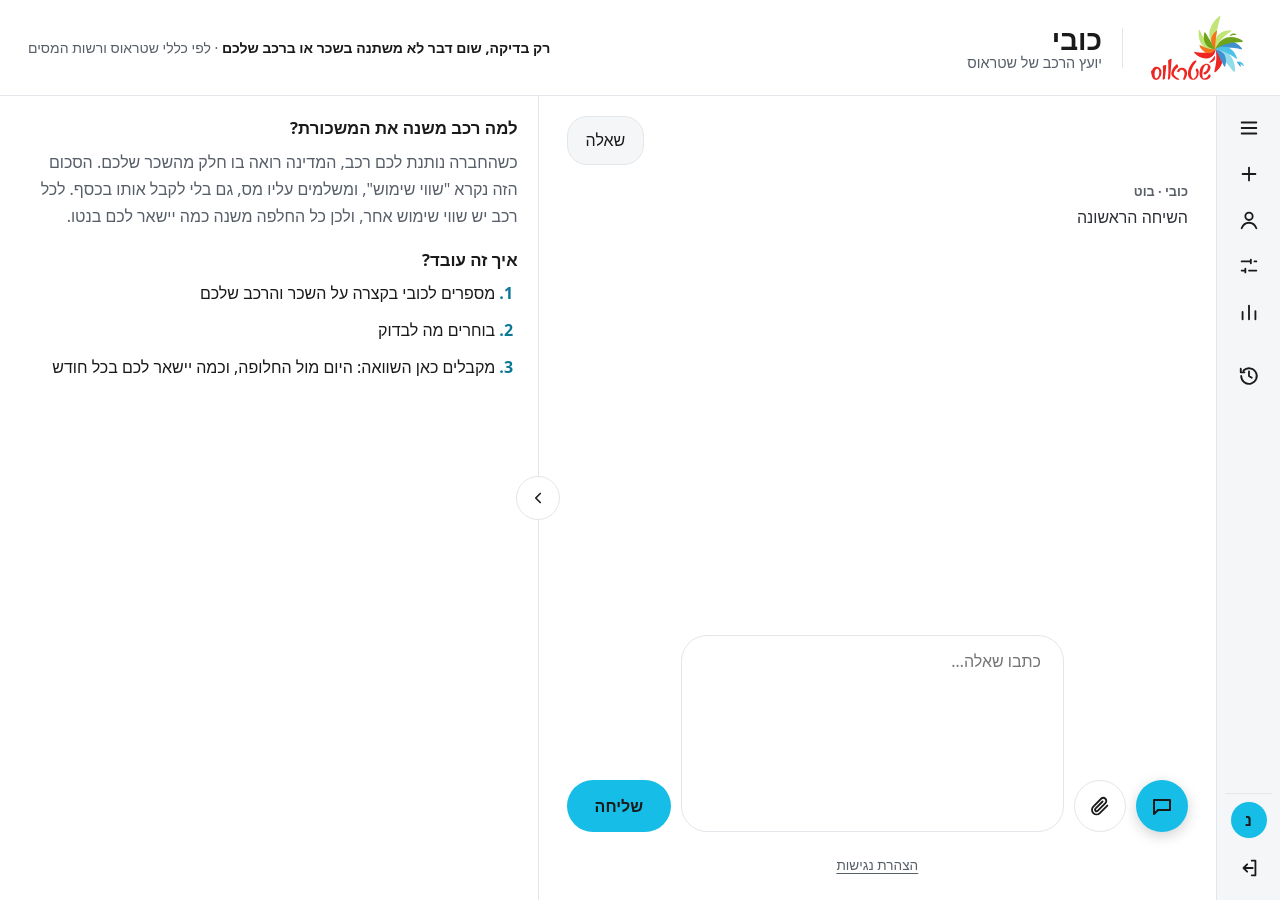
Test: switching conversations: no page scroll › a new conversation: the welcome, the focus in the box, no page scroll
Expected: the text "השיחה הראשונה" is shown, [1077,204,1188,231]
Click the 1st button named "שיחה חדשה" at (1248, 174), box [1225,152,1272,196]
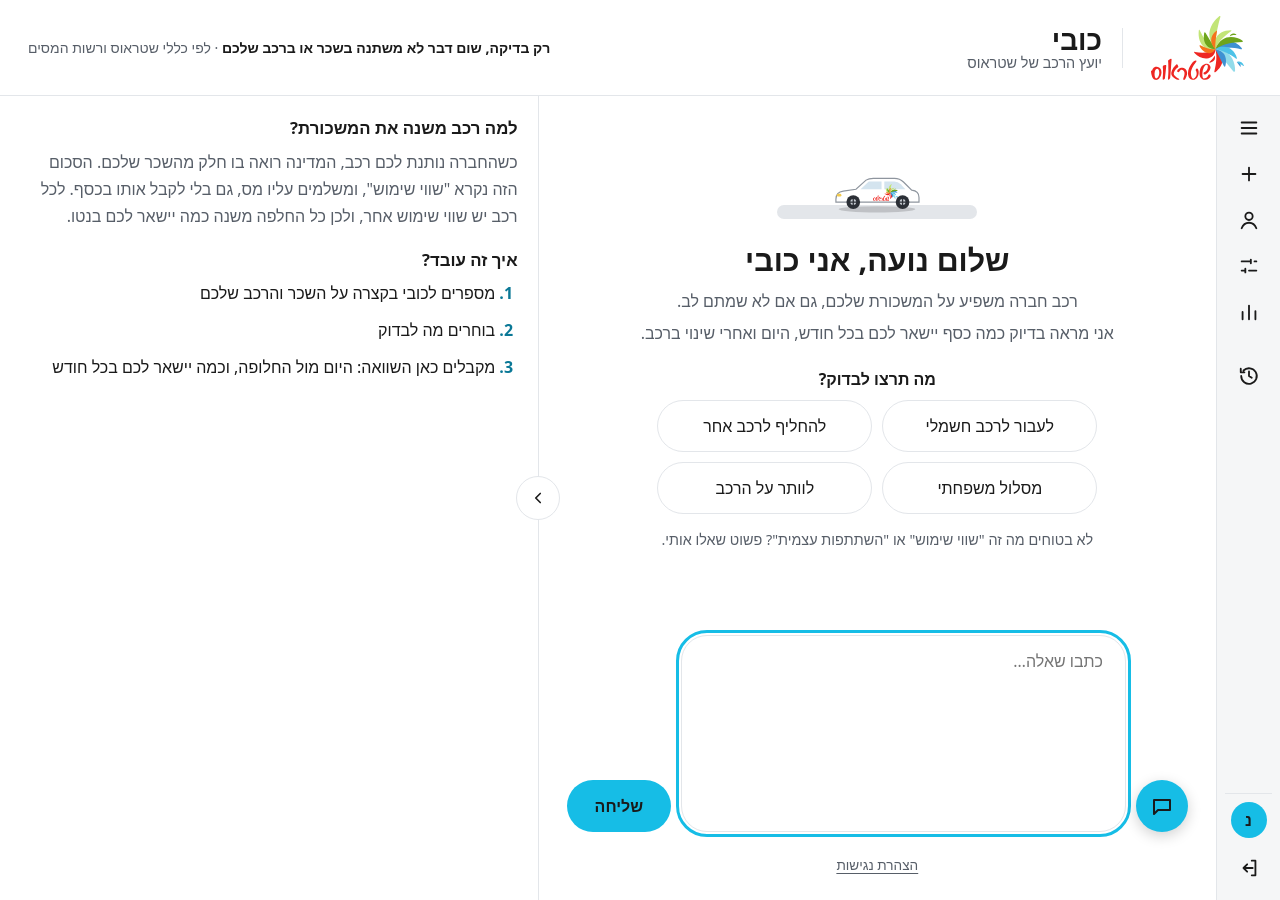
Now the heading "שלום נועה, אני כובי" is shown, box [745,238,1010,280]
